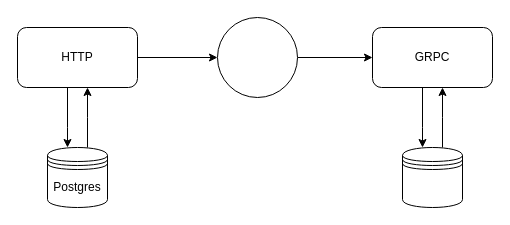
This 510x225 diagram has some shape labels left out. The centre of each missing label's shape, as x and y in pixels:
"MongoDB" belongs at [432,177].
"RabbitMQ" belongs at [257,57].
